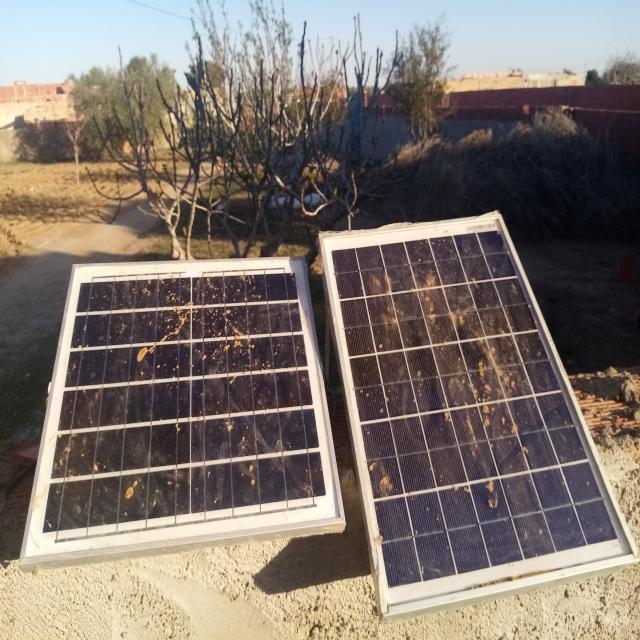faulty: (322, 219, 638, 611), (23, 265, 340, 560)
